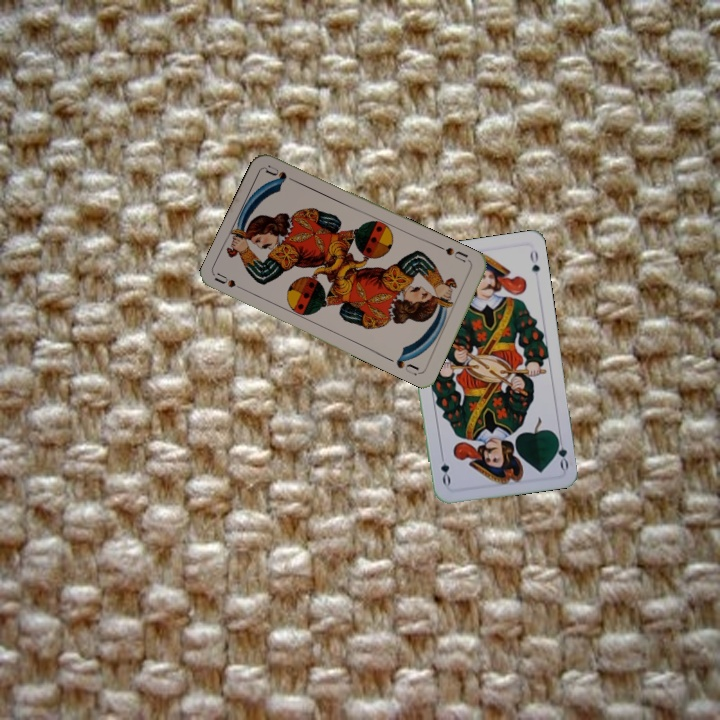GO: (552, 431, 571, 472)
SU: (212, 269, 251, 295), (441, 243, 471, 265)
